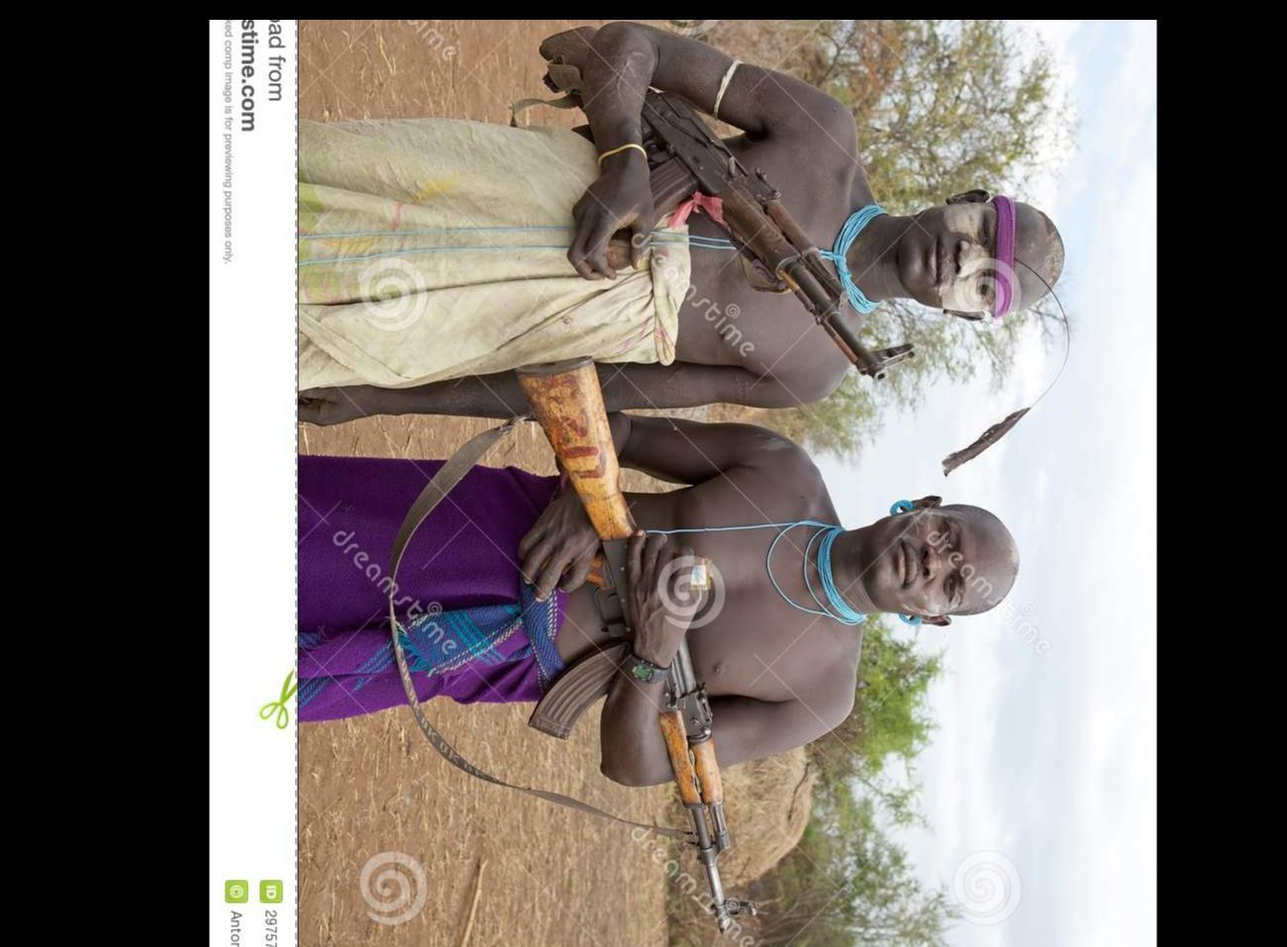larga: (515, 355, 757, 936), (540, 25, 919, 385)
